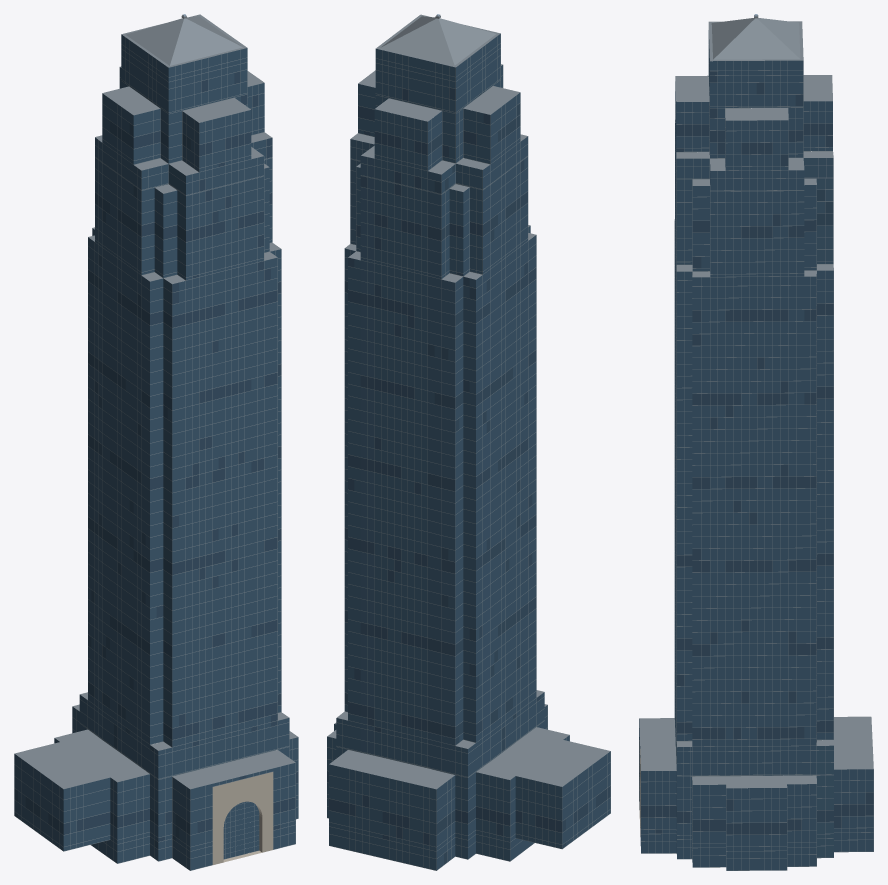
The model's file is williams-tower-near.glb.
The picture shows the model from 3 angles, left to right: view 1: azimuth 30°, elevation 25°; view 2: azimuth 150°, elevation 25°; view 3: azimuth 270°, elevation 25°; orthographic projection.
Parts seen in each view (by area): view 1: williams-tower-0-glass, williams-tower-0-mullion, williams-tower-0-glow, williams-tower-0-roof, williams-tower-0-stone; view 2: williams-tower-0-glass, williams-tower-0-mullion, williams-tower-0-glow, williams-tower-0-roof; view 3: williams-tower-0-glass, williams-tower-0-mullion, williams-tower-0-glow, williams-tower-0-roof.
Part boxes in pixels (<box>): williams-tower-0-glass: <box>14,34,298,870</box>; williams-tower-0-mullion: <box>14,37,298,870</box>; williams-tower-0-glow: <box>14,71,298,848</box>; williams-tower-0-roof: <box>14,14,298,789</box>; williams-tower-0-stone: <box>212,772,273,864</box>; williams-tower-0-glass: <box>327,34,610,870</box>; williams-tower-0-mullion: <box>327,33,610,870</box>; williams-tower-0-glow: <box>327,87,610,864</box>; williams-tower-0-roof: <box>327,14,610,789</box>; williams-tower-0-glass: <box>639,30,873,870</box>; williams-tower-0-mullion: <box>639,44,873,870</box>; williams-tower-0-glow: <box>639,61,873,838</box>; williams-tower-0-roof: <box>639,15,873,788</box>.
Bounding box in the file's own units: 85.04 × 275 × 72.04.
